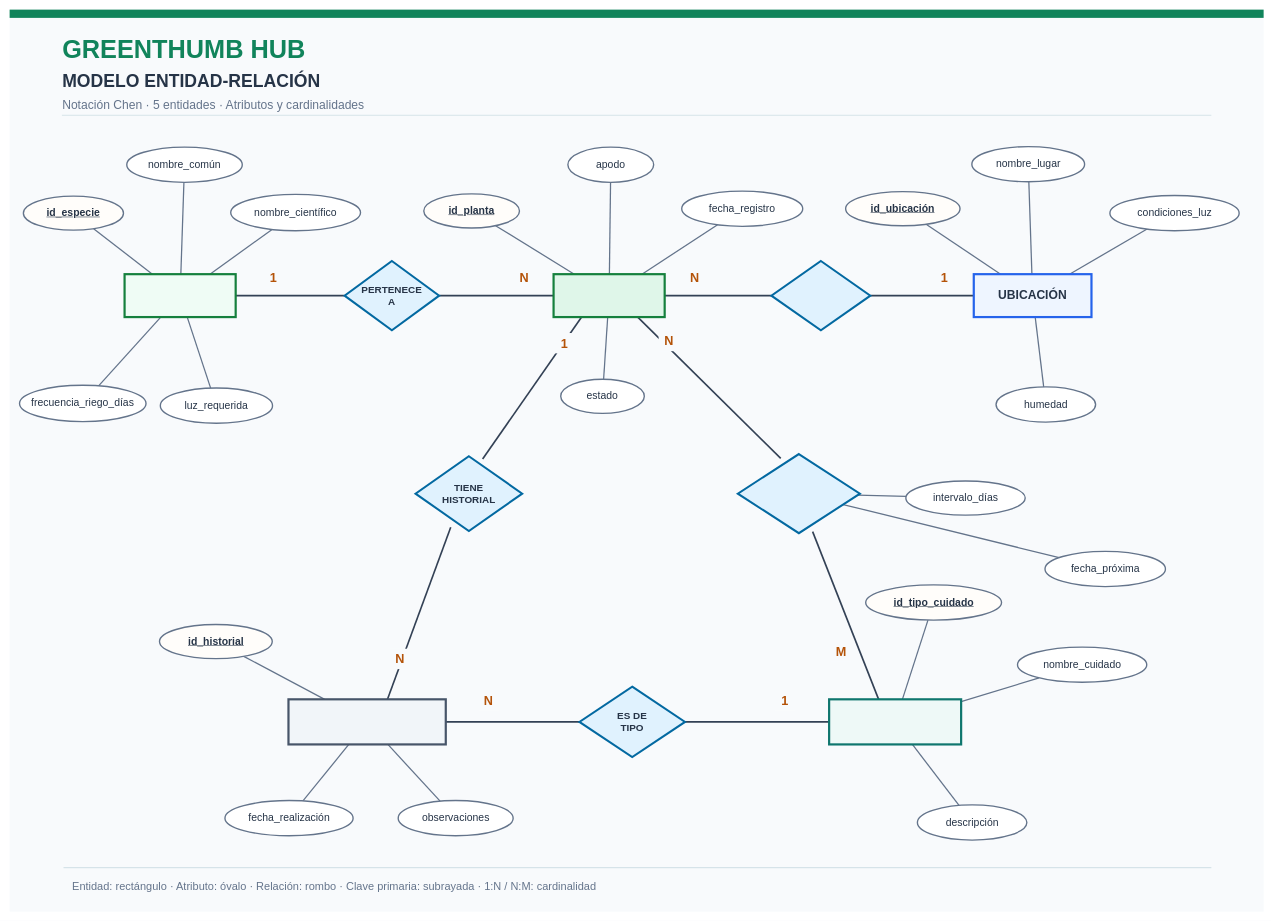
This 1273x921 diagram has some shape labels left out. Here are the shapes that lost their labels. From the top down, the box of each, then its label:
(123, 273, 237, 318): ESPECIE
(552, 273, 666, 318): PLANTA
(770, 260, 871, 331): SE UBICA EN
(737, 453, 861, 534): TIENE PROGRAMADO
(287, 698, 447, 745): HISTORIAL_CUIDADO
(828, 698, 962, 745): TIPO_CUIDADO
